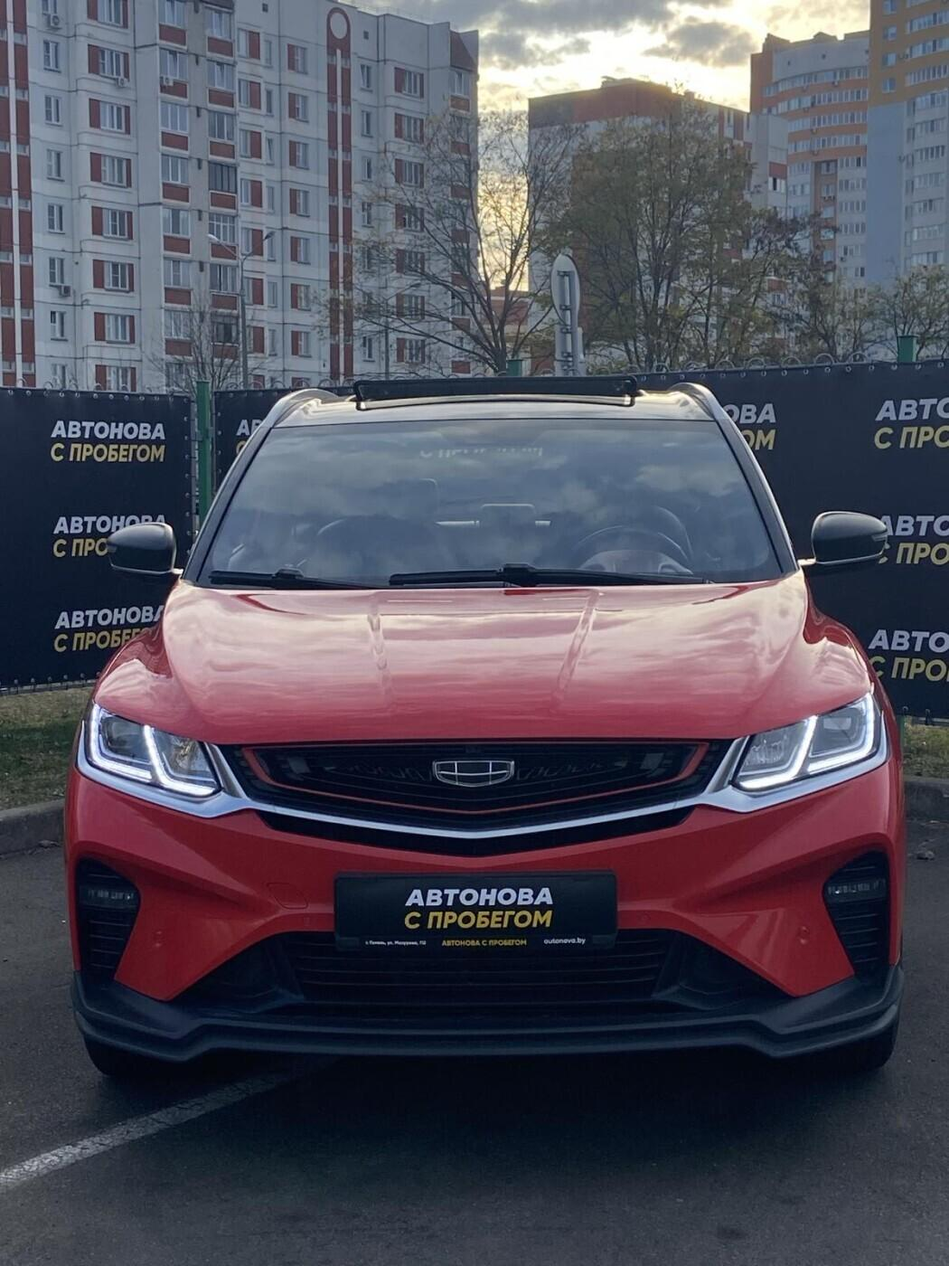Coolray_2019-2023: (52, 383, 913, 1100)
